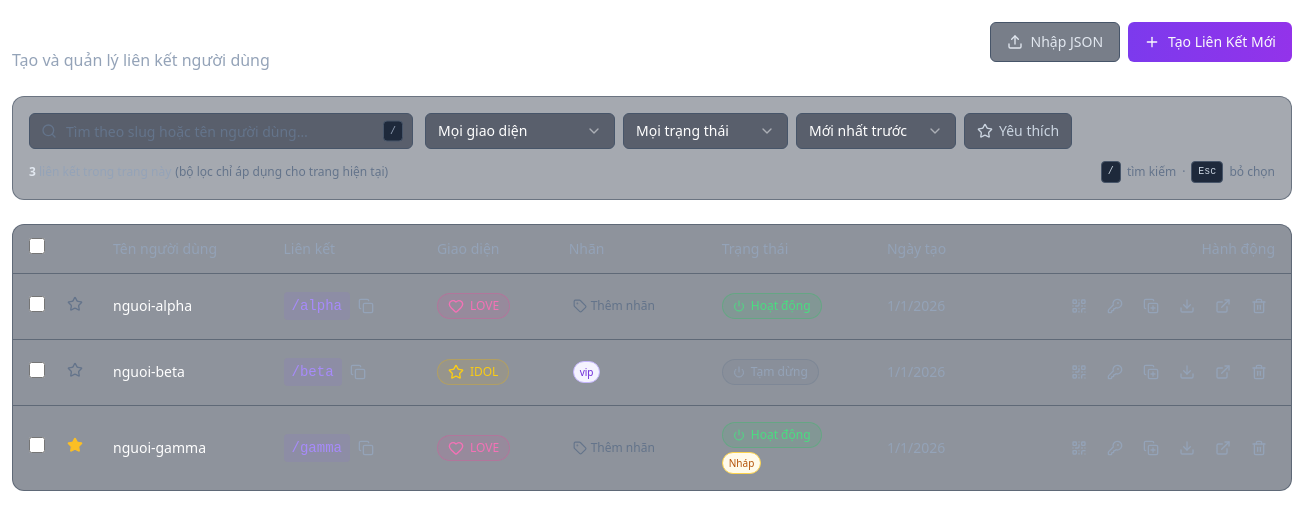
Scenario: LinksTable — tìm kiếm, lọc, sắp xếp › lọc theo slug khi gõ vào ô tìm kiếm
This screenshot has width=1304, height=508.
Type "beta" into the field labelled "Tìm theo slug hoặc tên người dùng…" at (221,131), box left=29, top=113, right=413, bottom=149
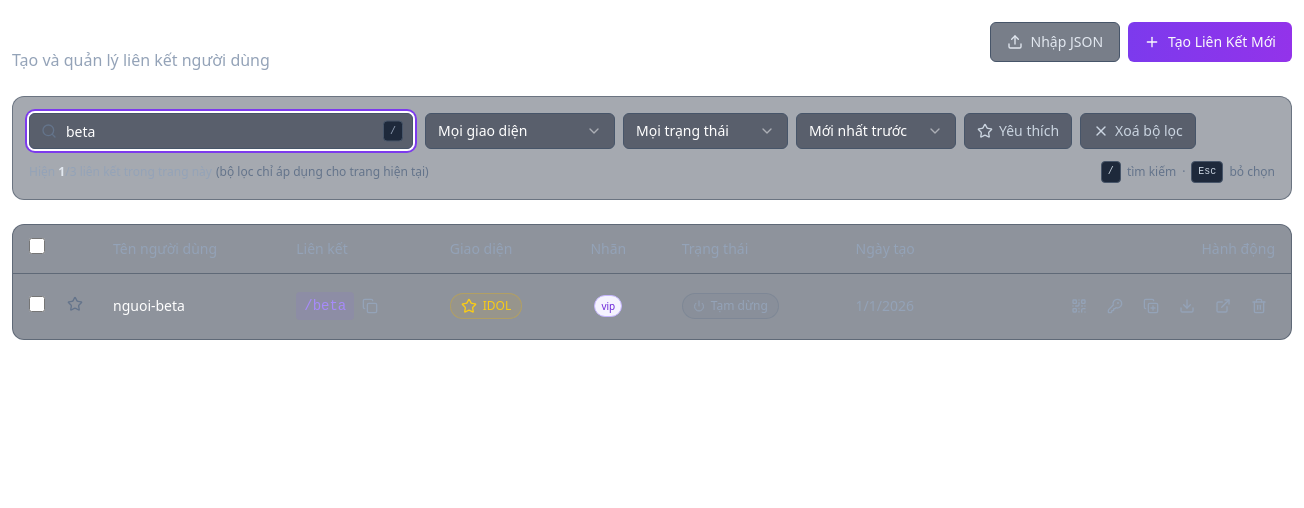
Expected: the text "/beta" is shown, left=296, top=292, right=354, bottom=320
Expected: the text "/alpha" is gone
